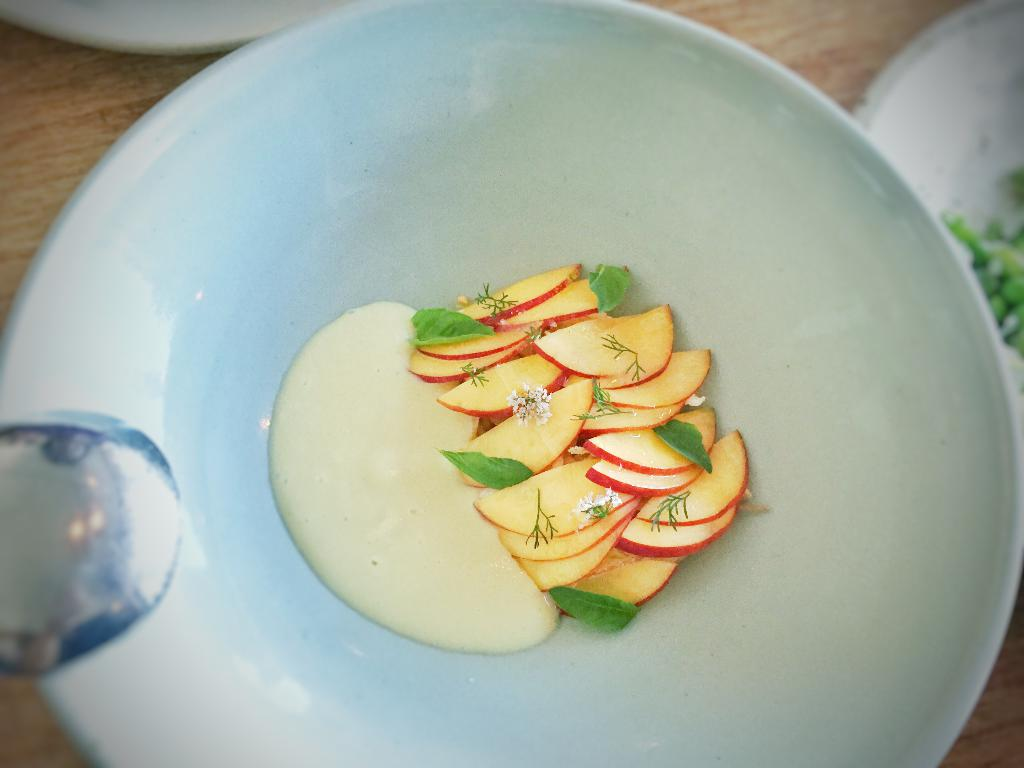plate: (121, 46, 932, 767)
